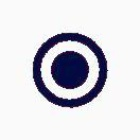RadioButton: (1, 1, 139, 139)
